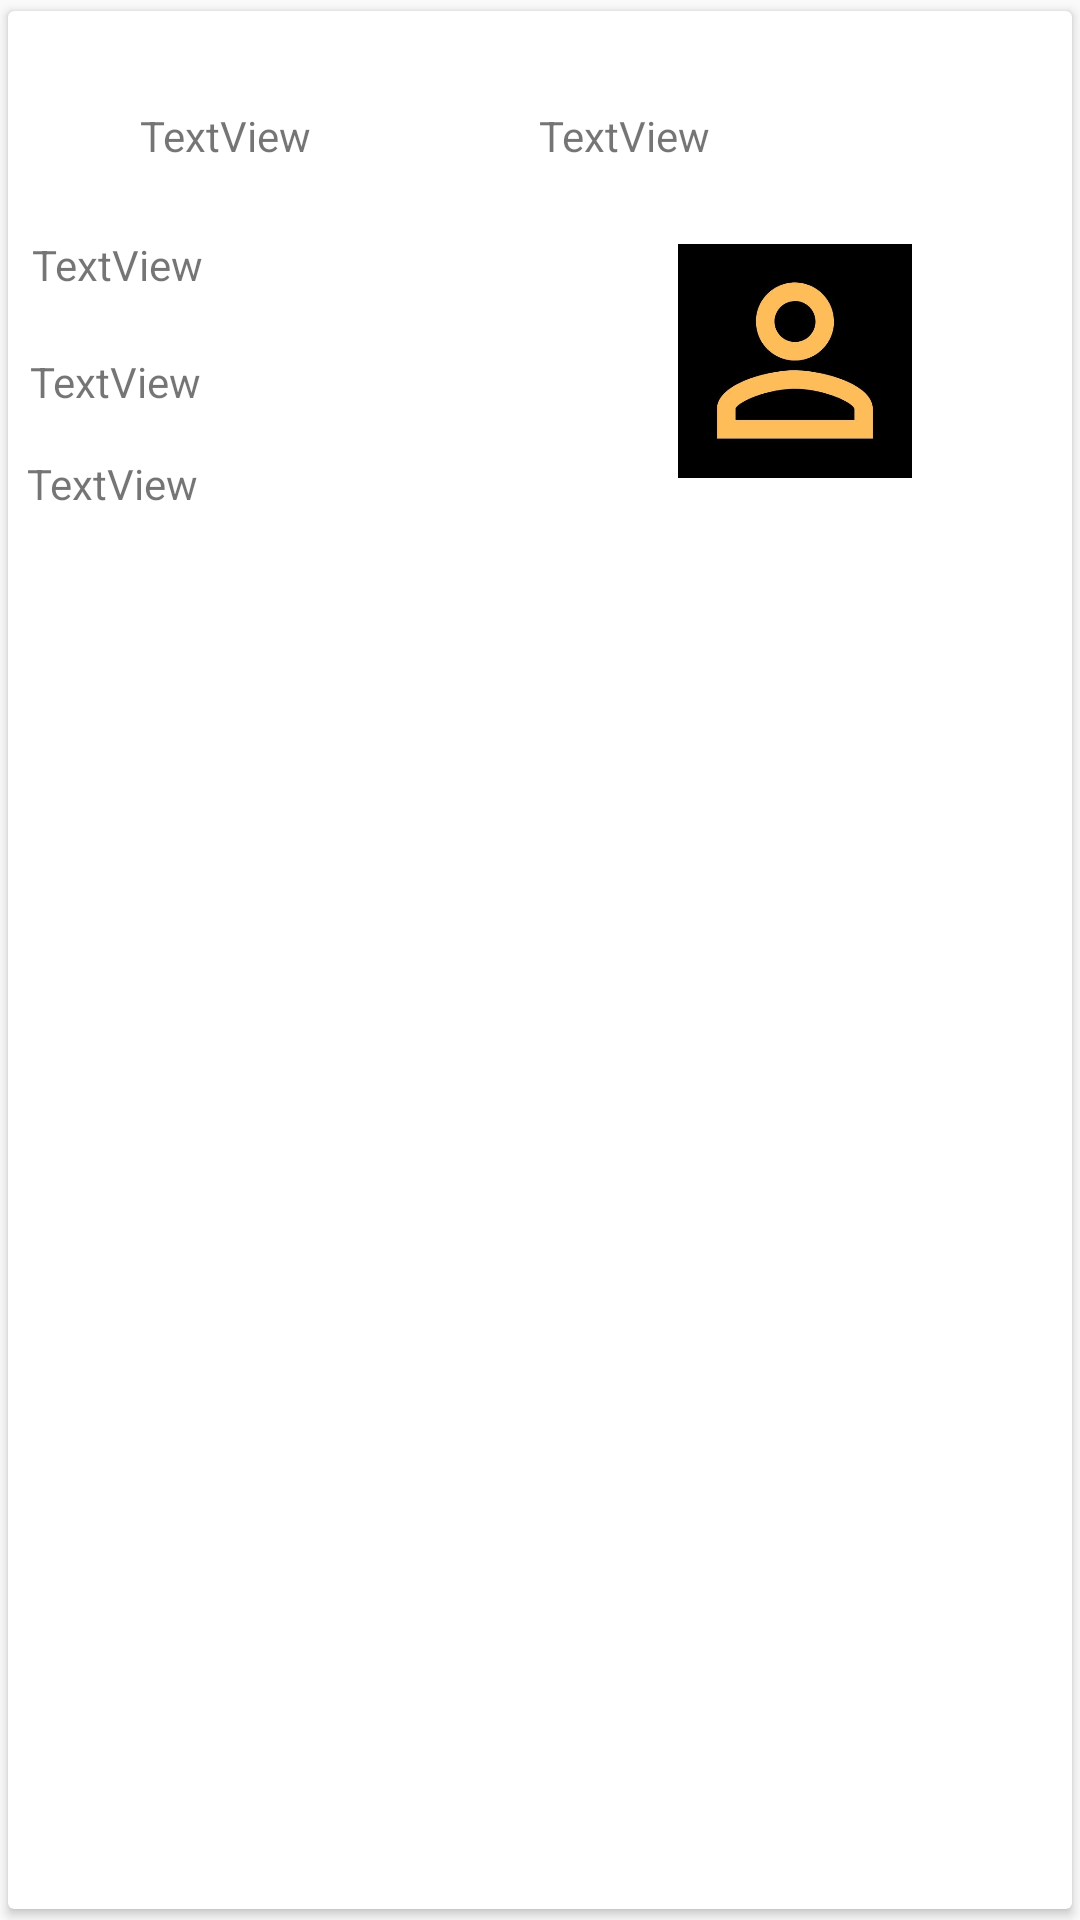

Where icons sit on this 1080 x 1920 app screen, as (x1, y1, x2, y2):
profil: (678, 244, 912, 478)
